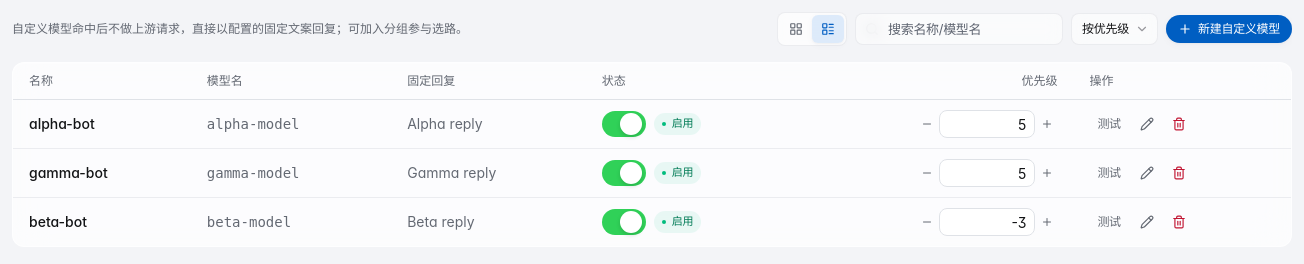
Scenario: <CustomModelsPage /> 搜索与排序 › 搜索按模型名过滤
Expected: the text "alpha-bot" is shown, [13,100,191,148]
Step 1. Type "gamma-model" into the field named "搜索自定义模型" → (959, 29), box [855,13,1063,45]
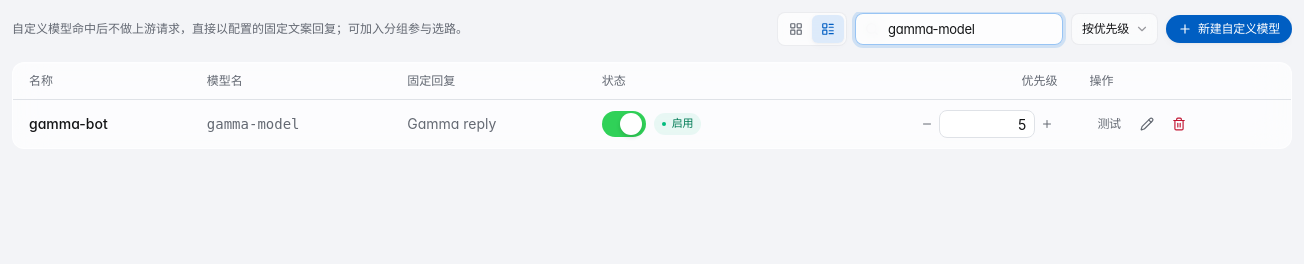
Expected: the text "gamma-bot" is shown, [13,100,191,148]
Now the text "alpha-bot" is gone
